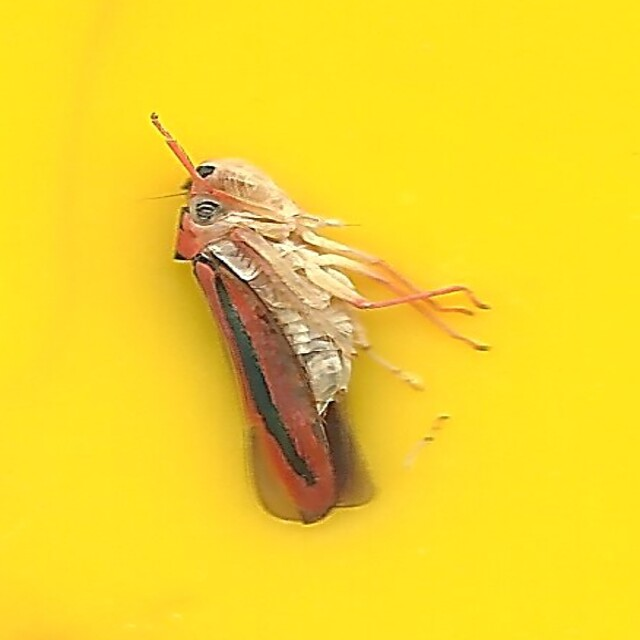Hemiptera: (146, 111, 494, 529)
